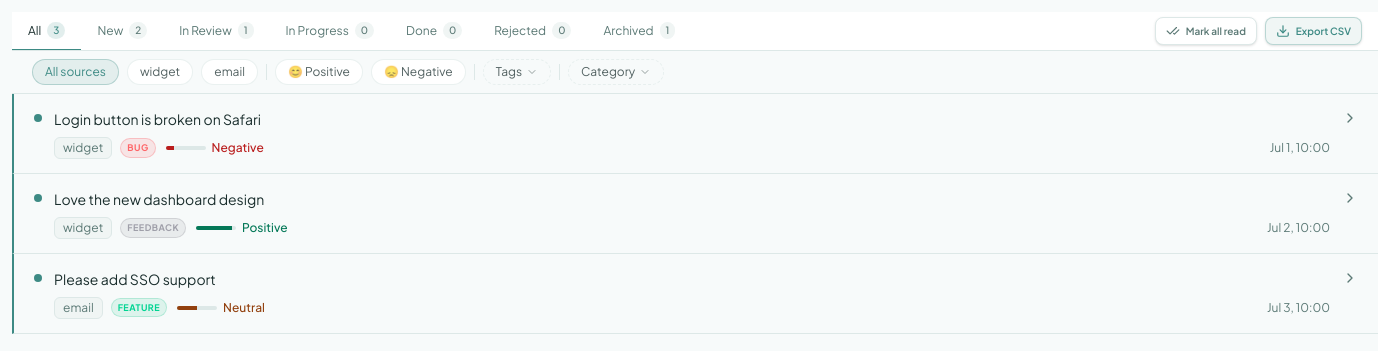
FeedbackFeed › filters to negative sentiment when the sentiment chip is clicked
Expected: the text "Login button is broken on Safari" is shown, top-left (54, 110), bottom-right (261, 128)
Click the button "😞 Negative".
click(418, 72)  # box top-left (371, 59), bottom-right (466, 85)
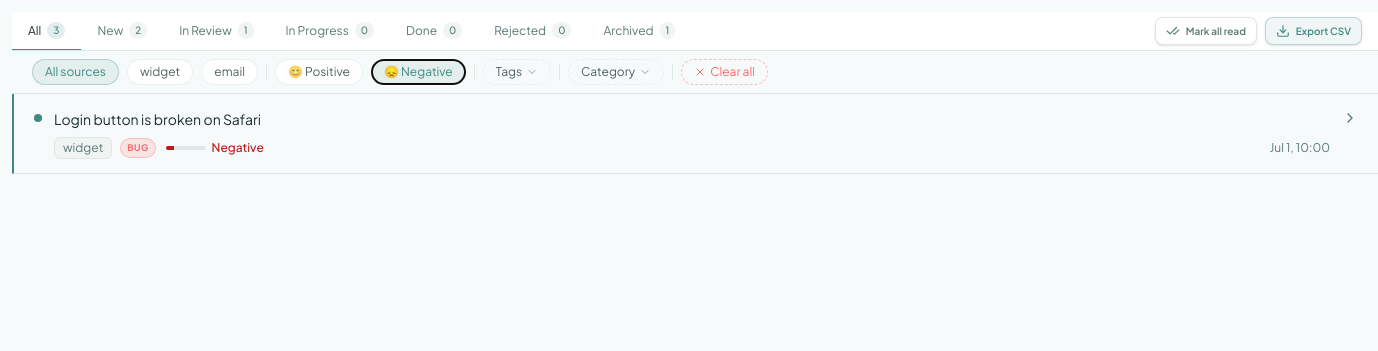
Expected: the text "Login button is broken on Safari" is shown, top-left (54, 110), bottom-right (261, 128)
Now the text "Love the new dashboard design" is gone
Now the text "Please add SSO support" is gone
